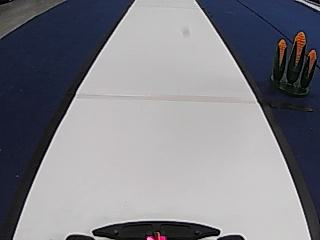corn: (262, 31, 319, 94)
